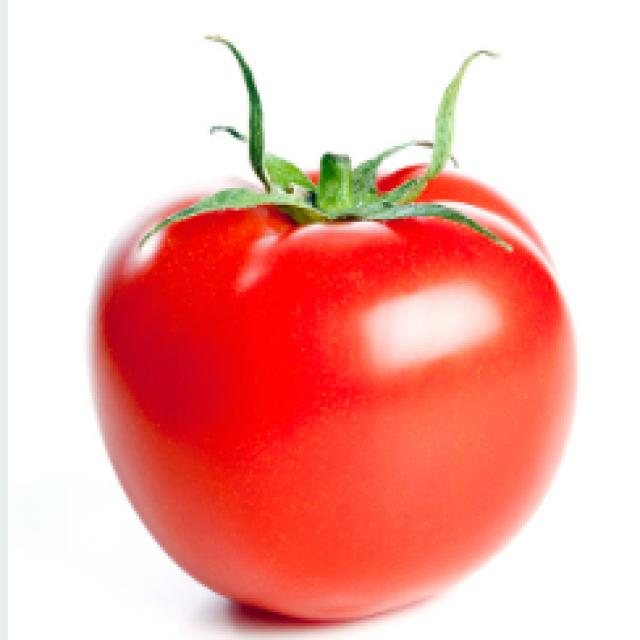Tomato: (97, 90, 583, 620)
